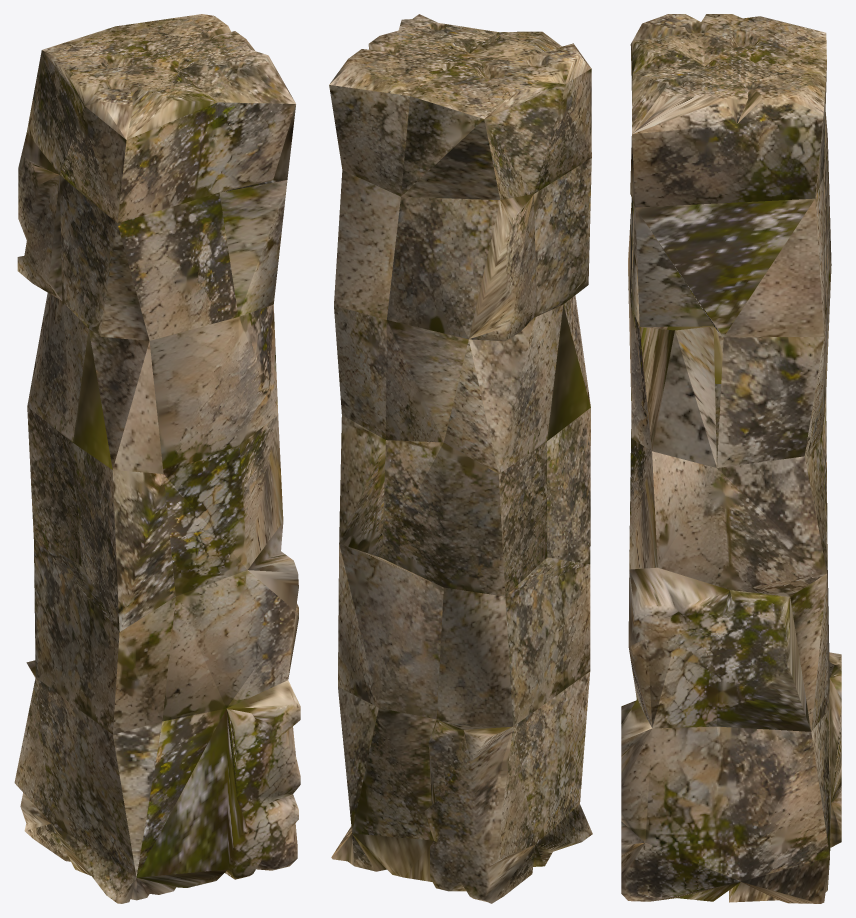
Rendered from ARQ_ColumnaMaya_01_LOD2.fbx.
3 renders of one model, left to right at view 1: azimuth 30°, elevation 25°; view 2: azimuth 150°, elevation 25°; view 3: azimuth 270°, elevation 25°, orthographic. The views are drawn at different scales.
Parts seen in each view (by area): view 1: ARQ_ColumnaMaya_01_Mesh000; view 2: ARQ_ColumnaMaya_01_Mesh000; view 3: ARQ_ColumnaMaya_01_Mesh000.
Part boxes in pixels (x1,y1,x2,y2): ARQ_ColumnaMaya_01_Mesh000: [14, 14, 300, 903]; ARQ_ColumnaMaya_01_Mesh000: [329, 14, 592, 903]; ARQ_ColumnaMaya_01_Mesh000: [621, 14, 841, 903].
Size of the model in its own units: 0.7339 by 3 by 0.7456.
